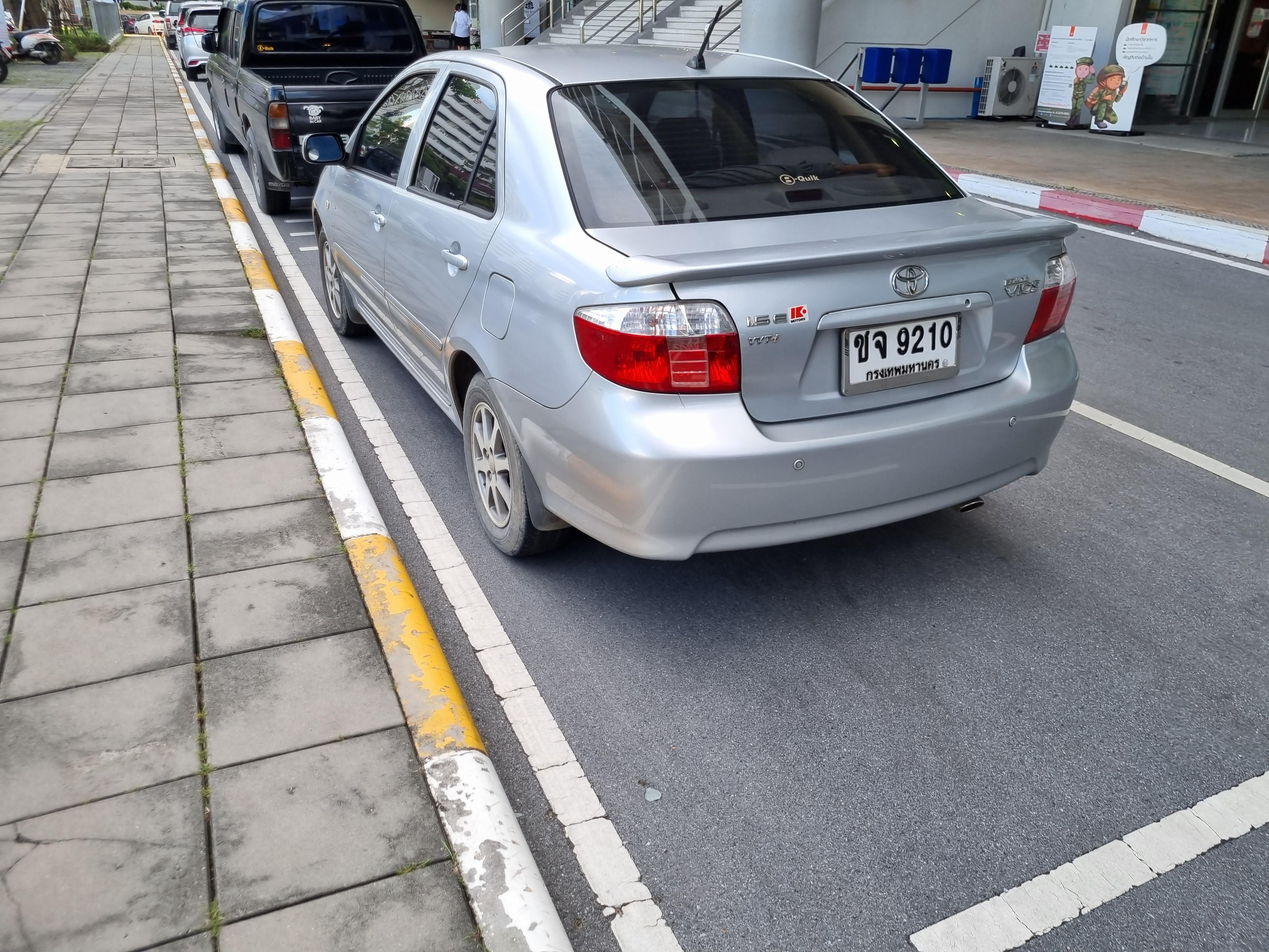license-plate: (836, 311, 976, 397)
